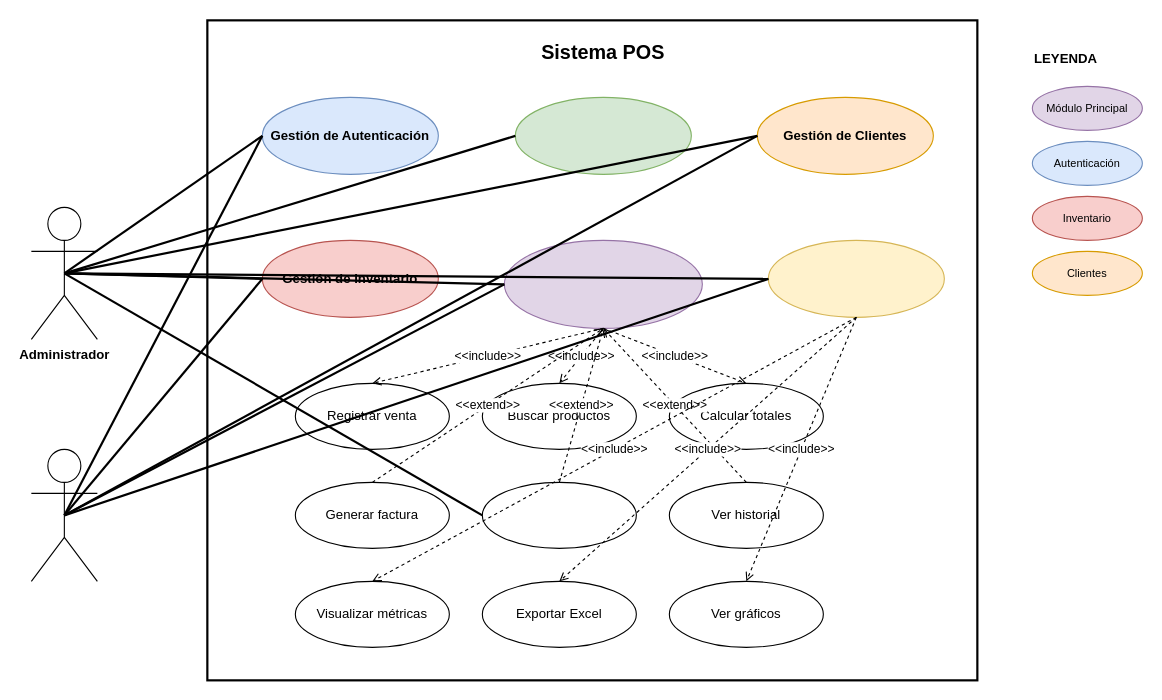
Some shapes in this 1162 by 700 pixel diagram are drawn without their labels. The centre of each missing label's shape, as x and y in pixels:
Cancelar venta: (x=558, y=514)
Dashboard y Reportes: (x=855, y=278)
Gestión de Trabajadores: (x=602, y=135)
Punto de Venta: (x=602, y=283)
Trabajador: (x=63, y=514)
